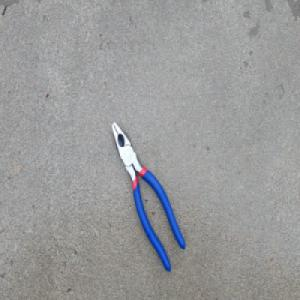Pliers: (110, 119, 185, 274)
